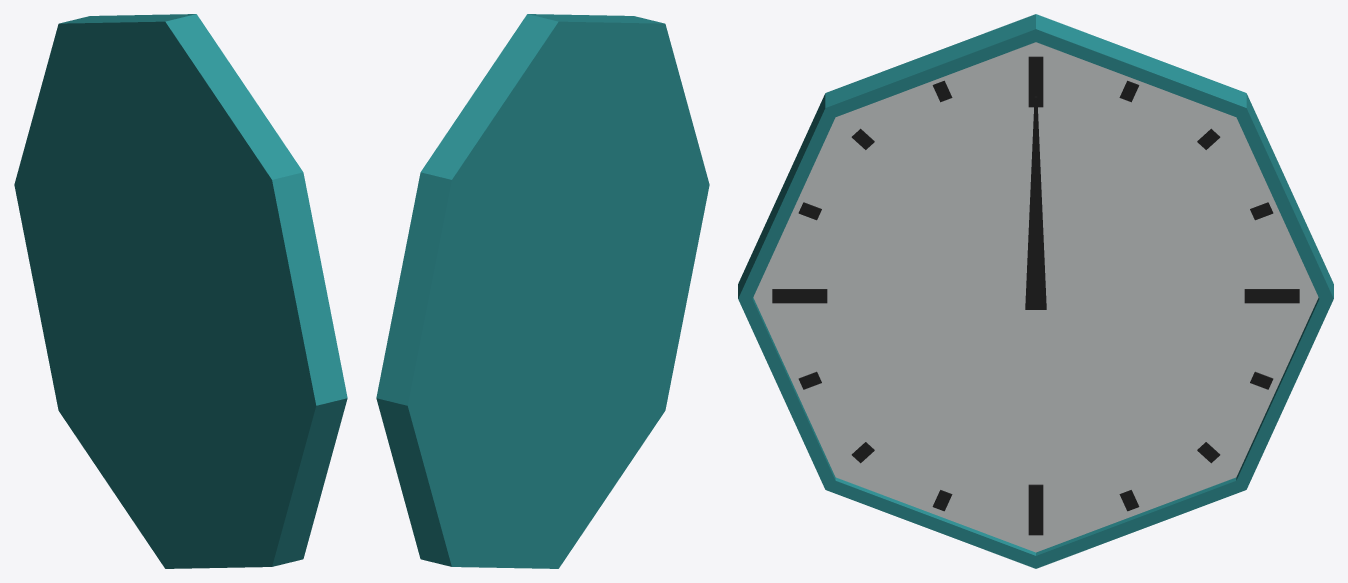
Rendered from Clock.fbx.
The picture shows the model from 3 angles, left to right: view 1: azimuth 30°, elevation 25°; view 2: azimuth 150°, elevation 25°; view 3: azimuth 270°, elevation 25°; orthographic projection.
Visible parts, largest first — view 1: Circle1; view 2: Circle1; view 3: Circle1, Plane.050.
Boxes of the visible parts, x1=… form: Circle1: x1=14, y1=14, x2=347, y2=568; Circle1: x1=376, y1=14, x2=709, y2=568; Circle1: x1=738, y1=14, x2=1333, y2=568; Plane.050: x1=1025, y1=96, x2=1046, y2=309.
Size of the model in its own units: 7.37 by 123 by 123.
1 material, 1 textured.
